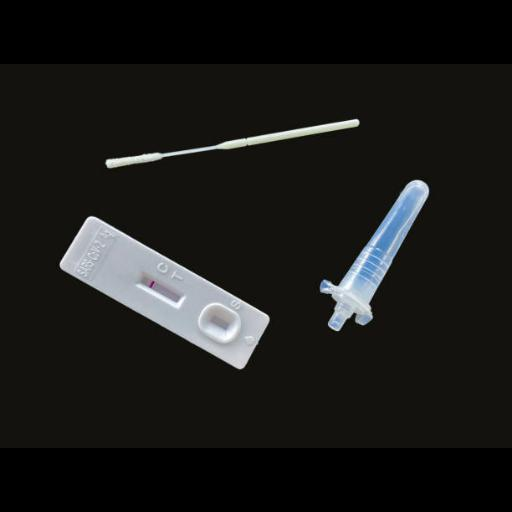Neg: (60, 212, 272, 371)
